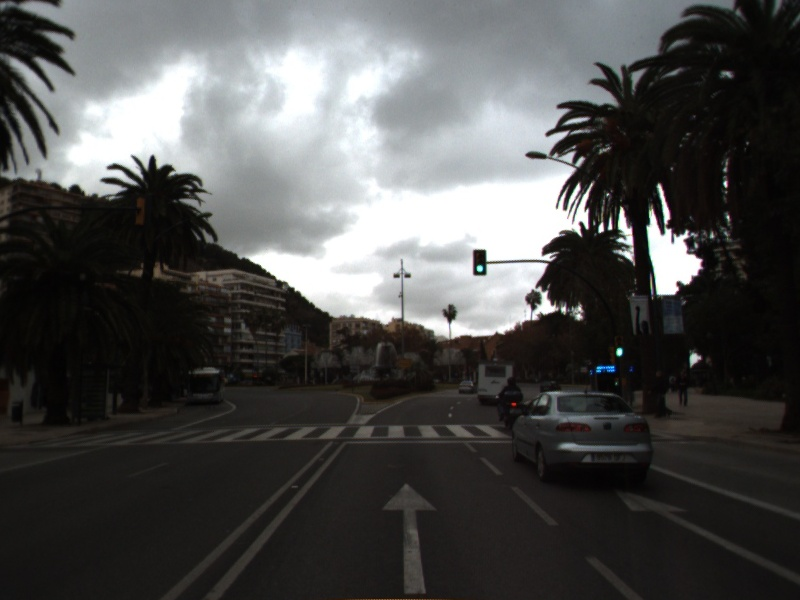STRAIGHT: (610, 484, 800, 582), (378, 481, 440, 596)
